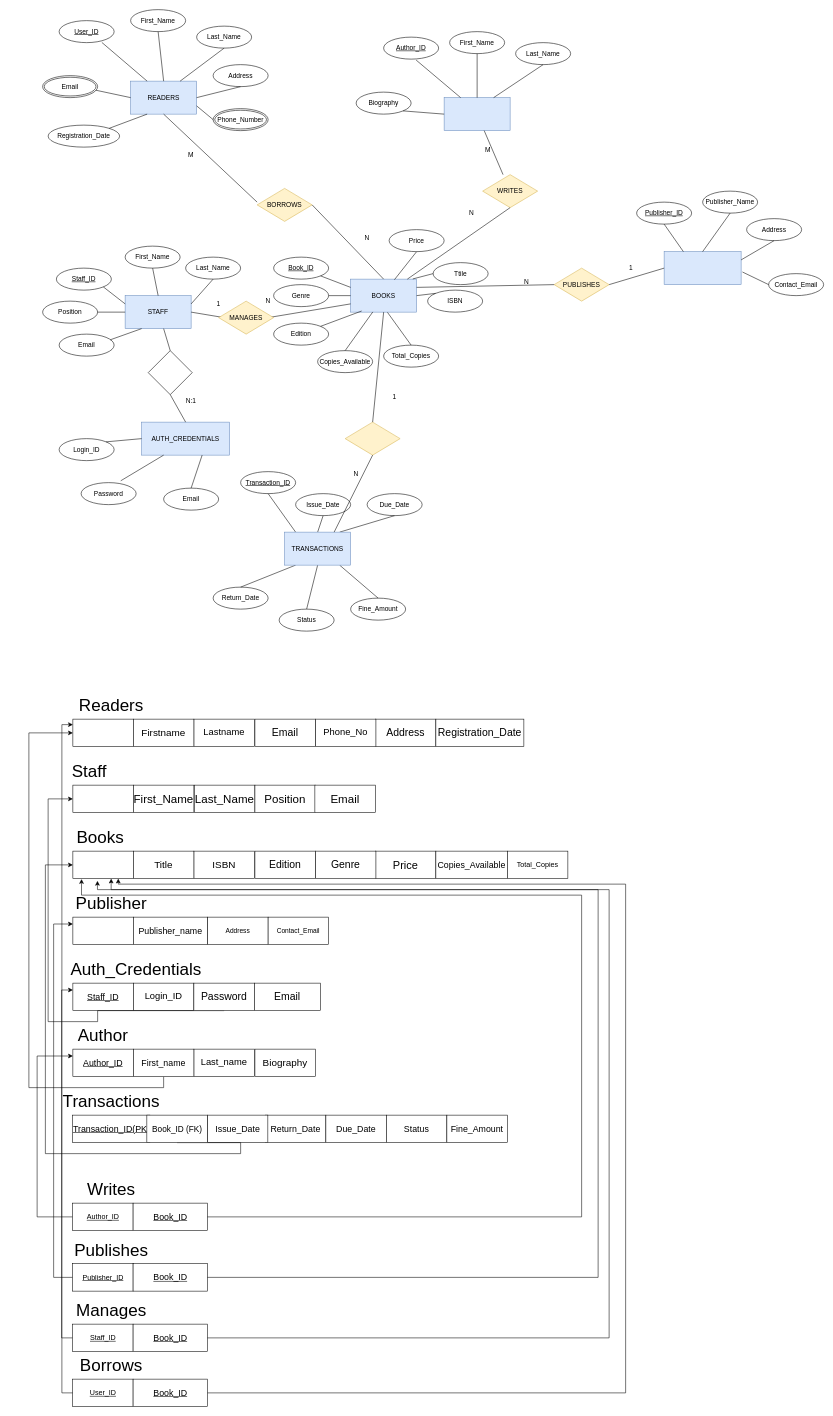
Image size: 833x1416. Some labels were removed from this diagram. Here are the shapes that lost their labels. From the top down, the box of each, then its label:
(444, 97, 510, 131): AUTHORS
(664, 251, 741, 285): PUBLISHERS
(148, 350, 192, 395): Has
(345, 422, 400, 455): INVOLVES
(72, 719, 133, 747): User_ID(PK)
(72, 785, 133, 813): Staff_ID(PK)
(72, 851, 133, 879): Book_ID(PK)
(72, 917, 133, 945): Publisher_ID(PK)
